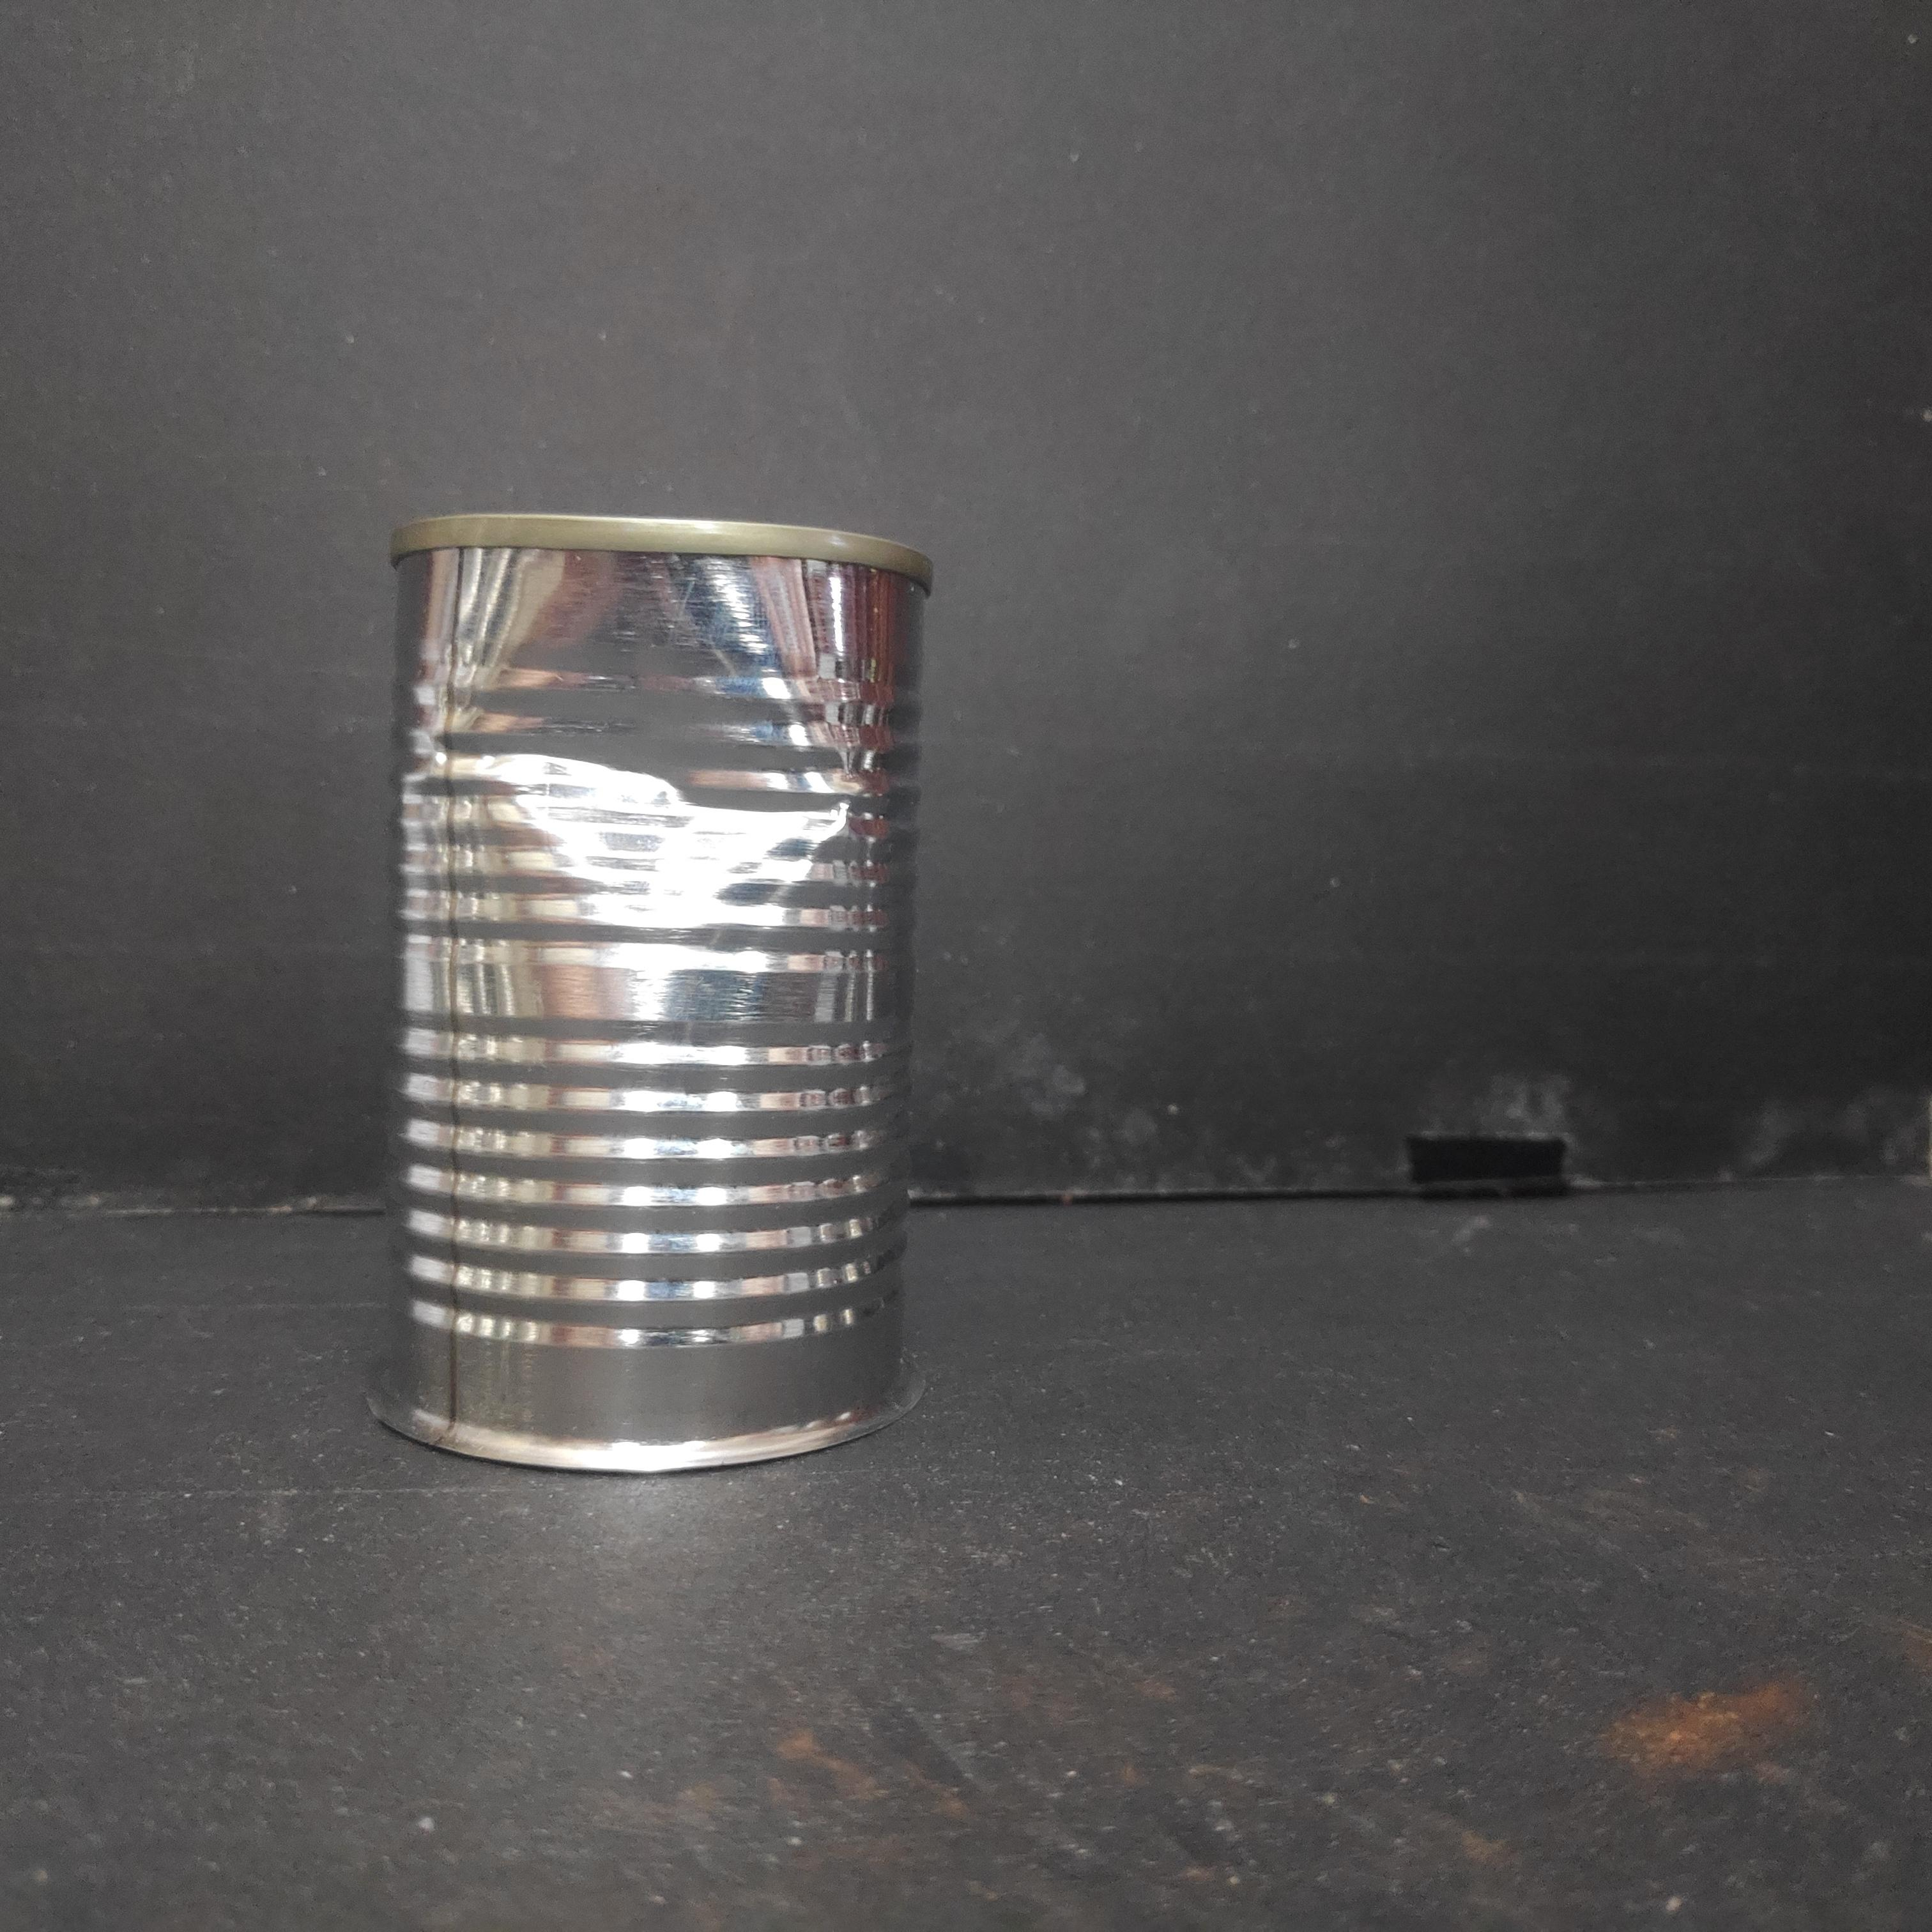Minor Defect: (352, 495, 932, 1488)
